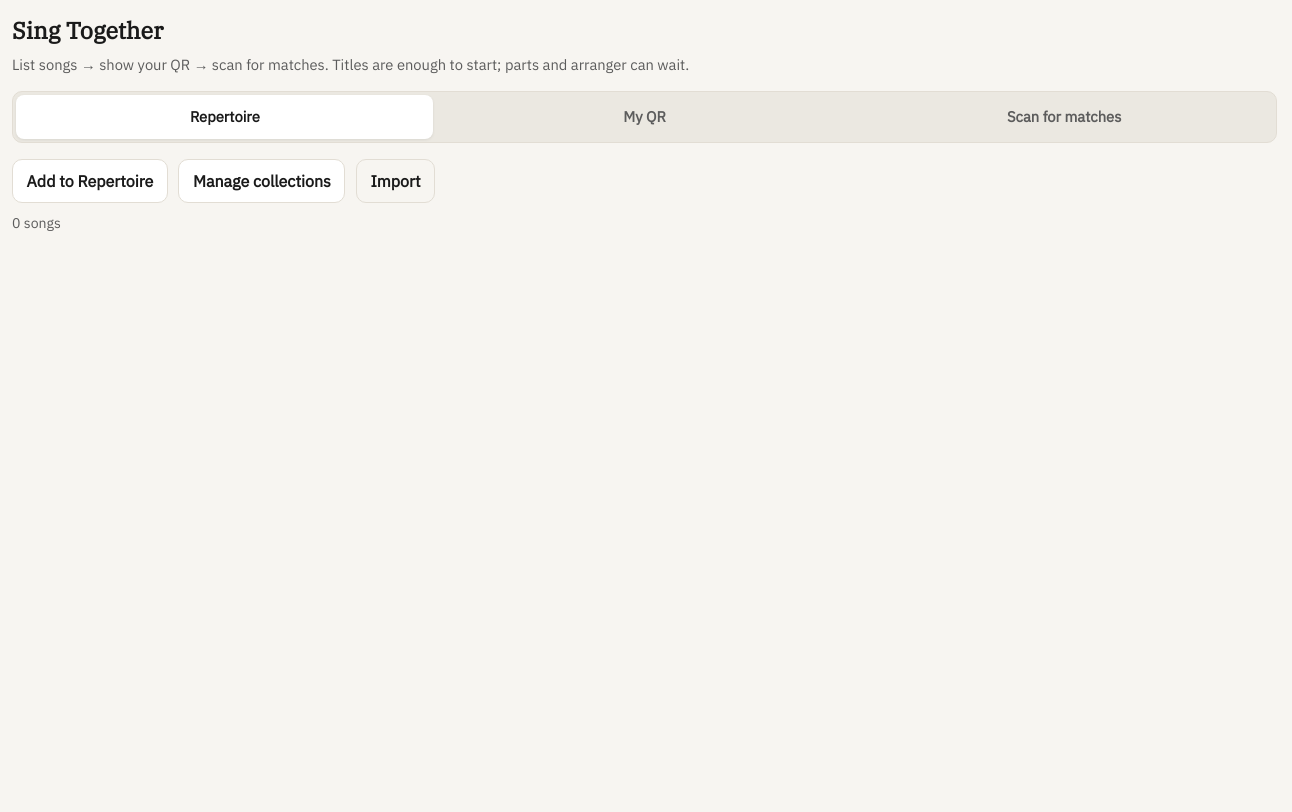
Scenario: SingTogetherView usability phases › shows Host empty warning and hides sort until matches exist
Click the tab "Scan for matches" at (1064, 117), box [856,95,1273,139]
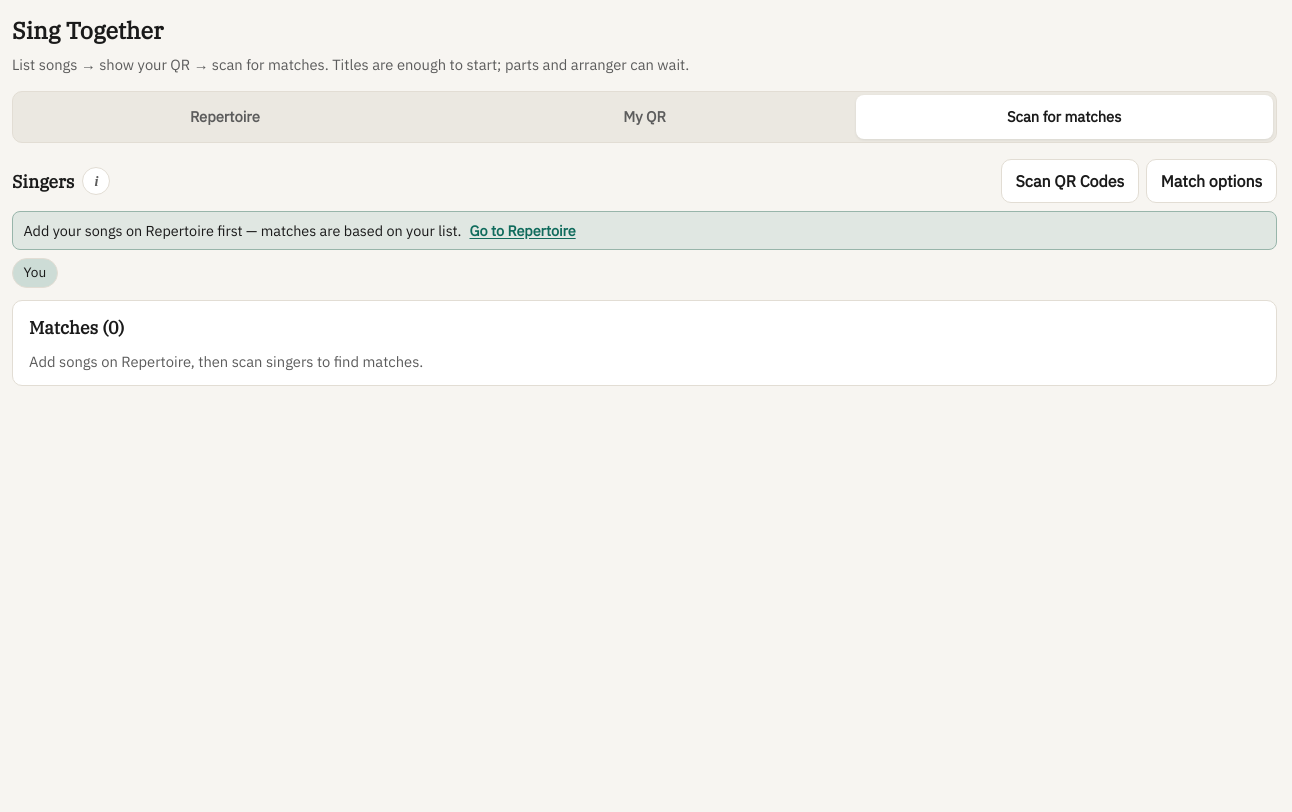
Expected: the text "Add your songs on Repertoire first" is shown, [23,221,462,240]
Click the button "Match options" at (1212, 181), box [1146,159,1277,203]
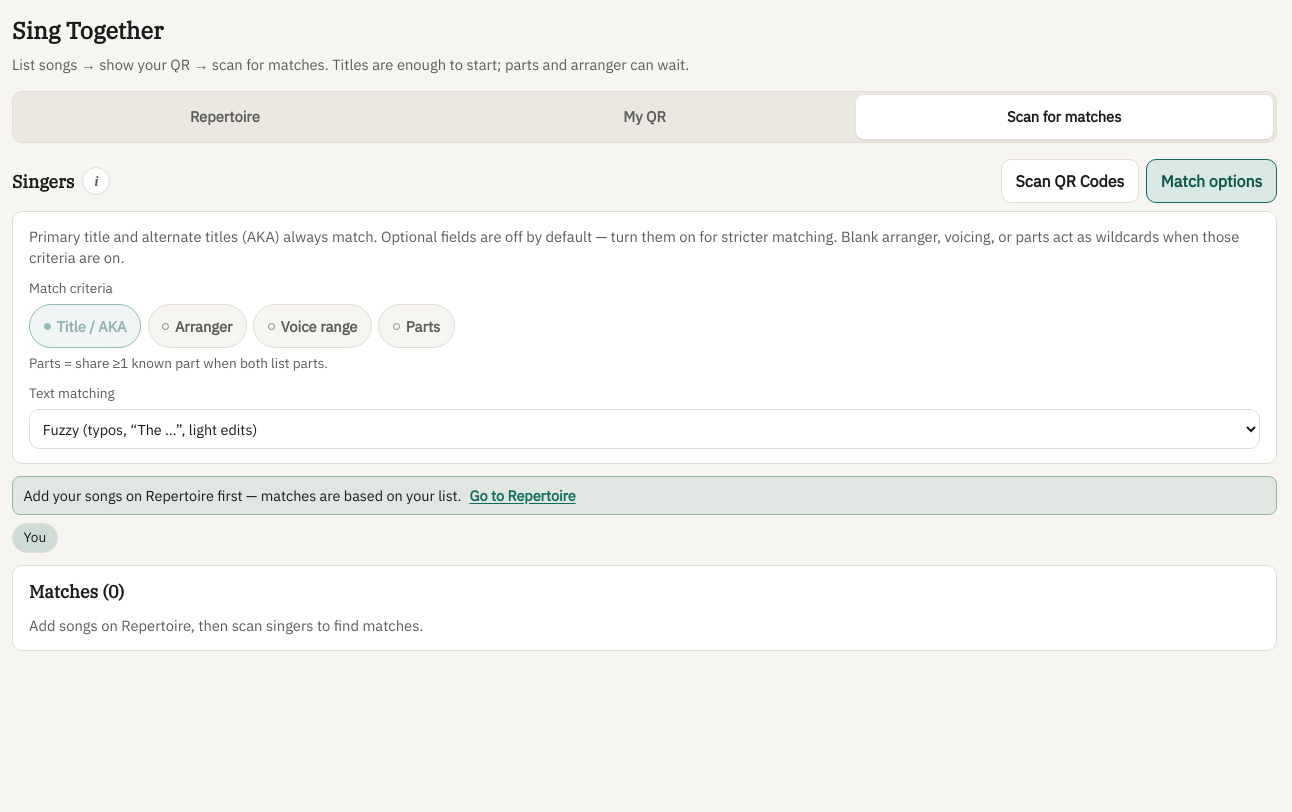
Expected: the element named "Match options" is shown, [12,211,1277,464]
Expected: the button "Match options" is expanded, [1146,159,1277,203]
